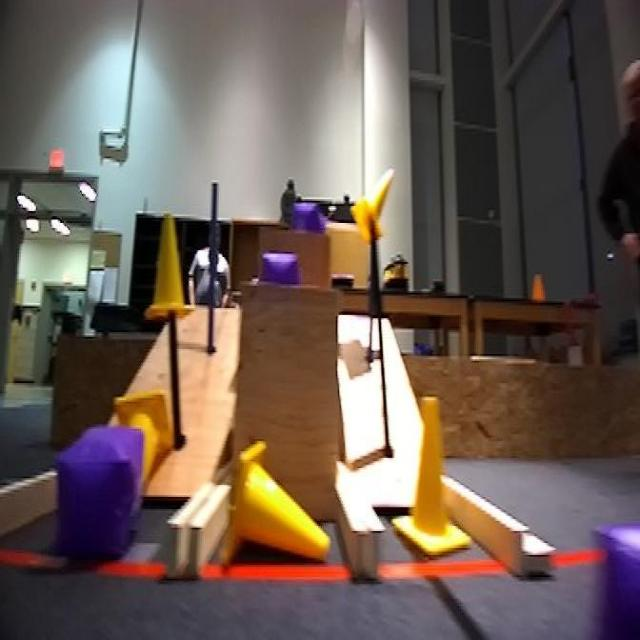frc_cone: (405, 378, 483, 575), (232, 439, 346, 565), (156, 218, 209, 332), (114, 390, 170, 480), (357, 154, 403, 244)
frc_cube: (50, 424, 135, 563), (587, 521, 640, 640), (284, 194, 321, 249), (262, 246, 293, 288)
